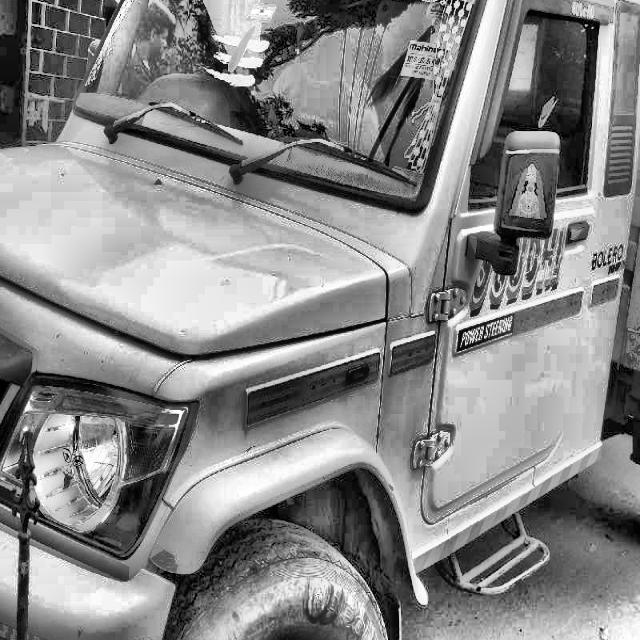light_vehicle: (0, 0, 626, 640)
